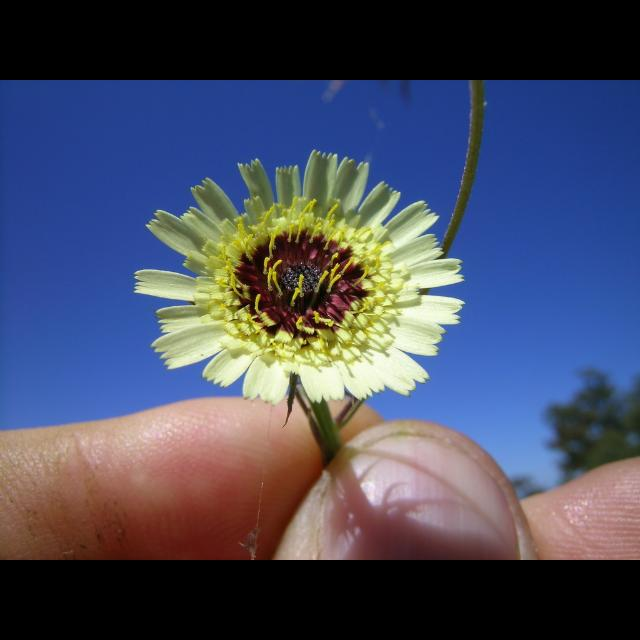Flower: (128, 151, 462, 465)
